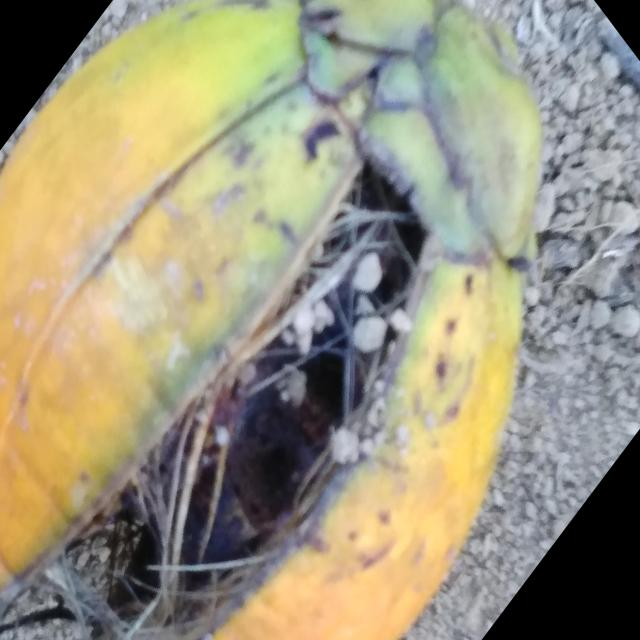damaged: (0, 0, 542, 640)
